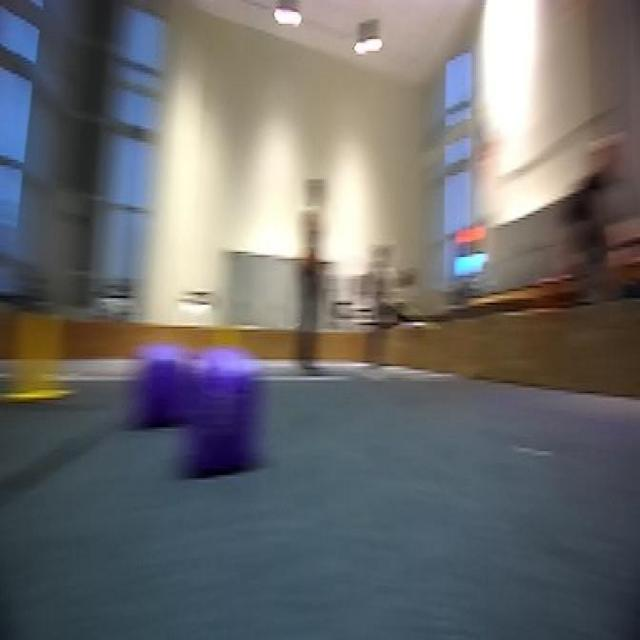frc_cone: (12, 298, 74, 413)
frc_cube: (191, 371, 262, 487), (139, 352, 191, 428)
